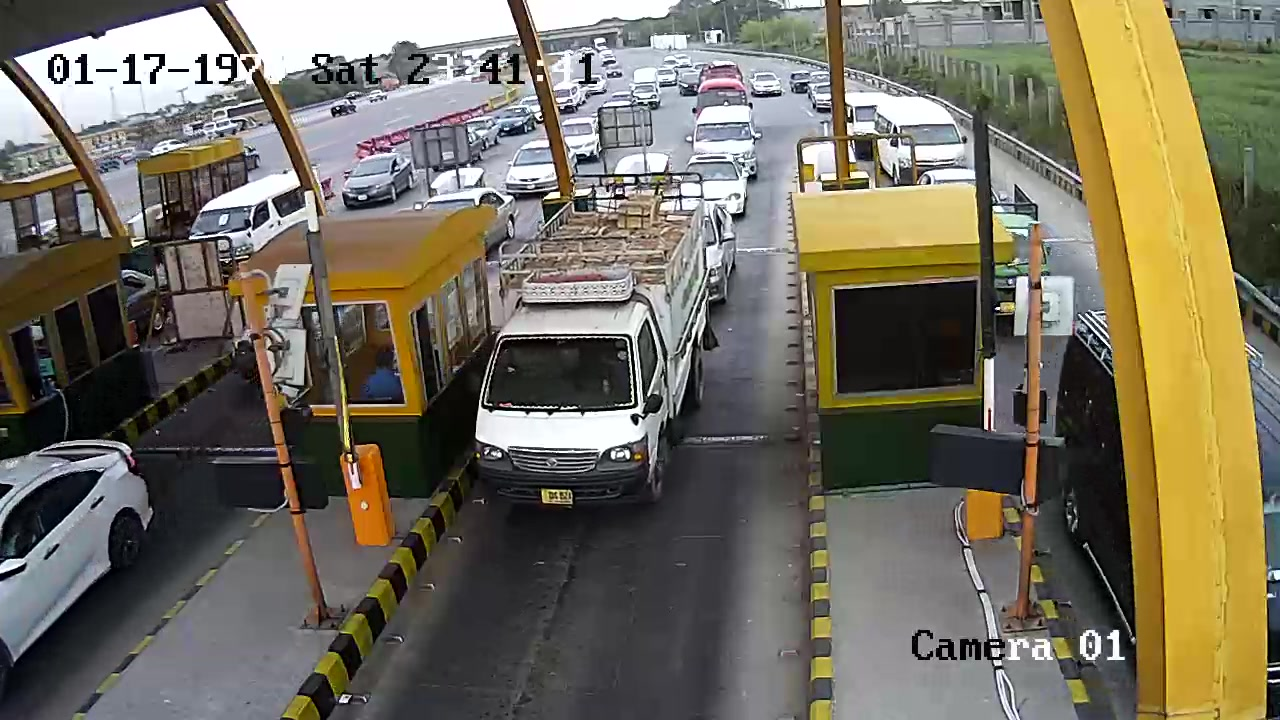F3: (467, 165, 717, 520)
